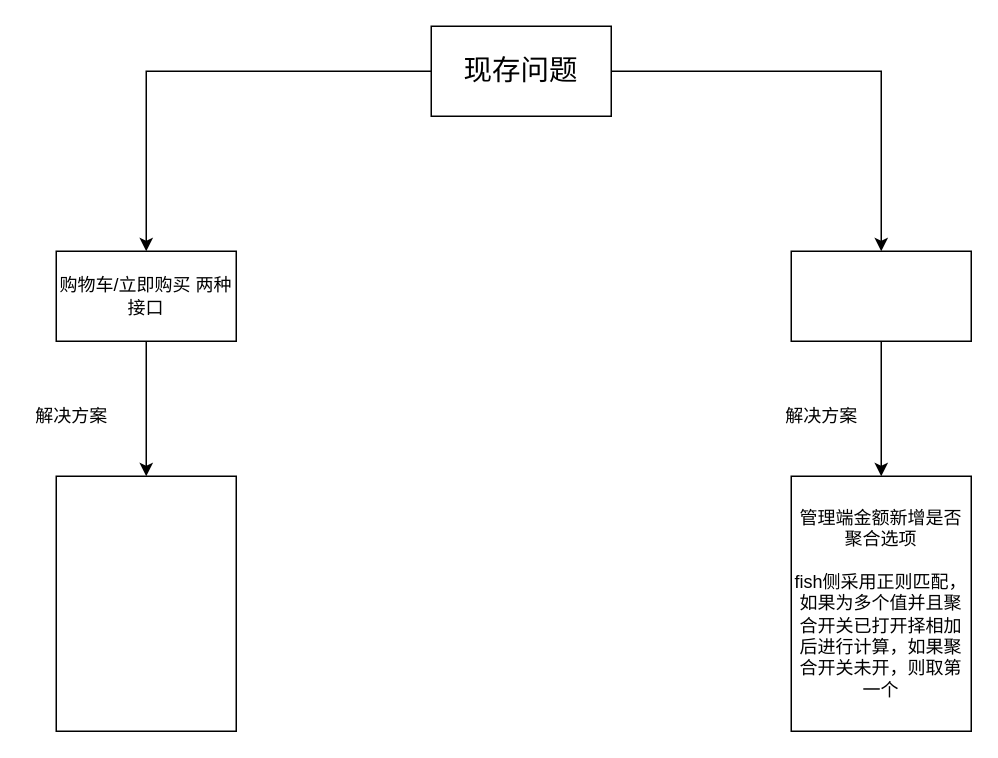
The diagram is 998 pixels wide and 758 high, and some of its shapes have lost their labels. The box of each missing label's shape, as (x1, y1, x2, y2) in pixels:
解决方案：url改为数组，srdata管理端要修改: (55, 475, 236, 731)
订单金额未汇总/array格式: (790, 250, 971, 341)
